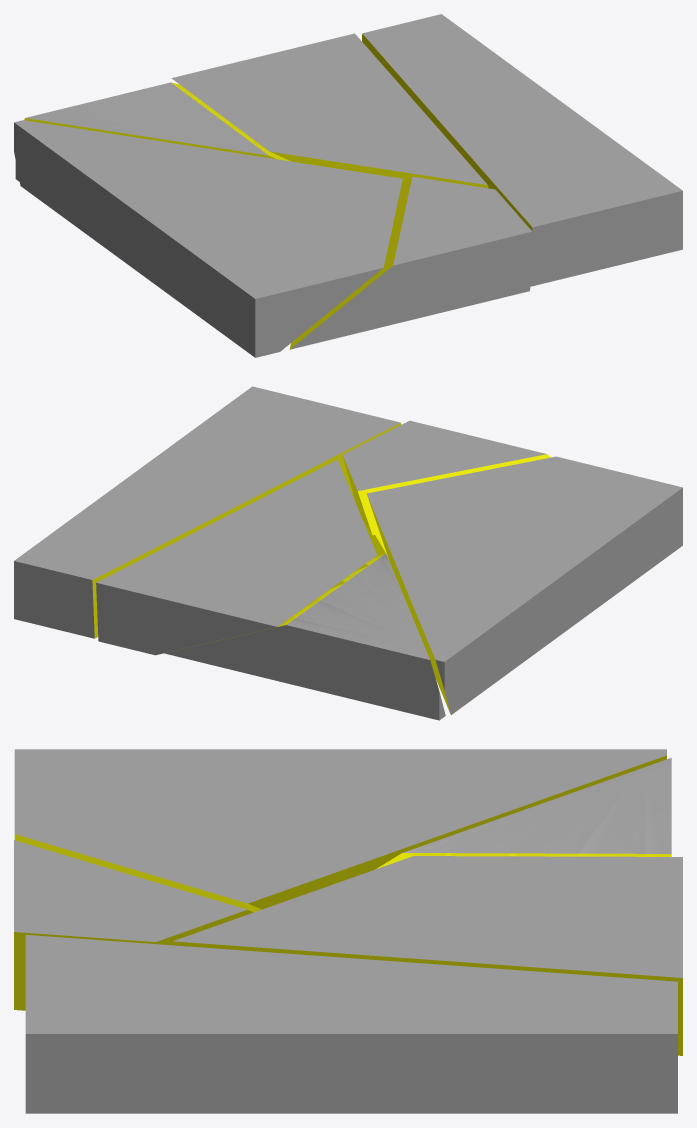
Rendered from Sidewalk Cracked 2.fbx.
3 renders of one model, top to bottom at view 1: azimuth 30°, elevation 25°; view 2: azimuth 150°, elevation 25°; view 3: azimuth 270°, elevation 25°, orthographic. The views are drawn at different scales.
Visible parts, largest first — view 1: shard22; view 2: shard22; view 3: shard22.
Part boxes in pixels (box(x1,y1,x2,y2)): shard22: box(14, 14, 682, 357); shard22: box(14, 386, 682, 720); shard22: box(14, 749, 682, 1113).
Bounding box in the file's own units: 7.07 × 0.9211 × 7.02.
